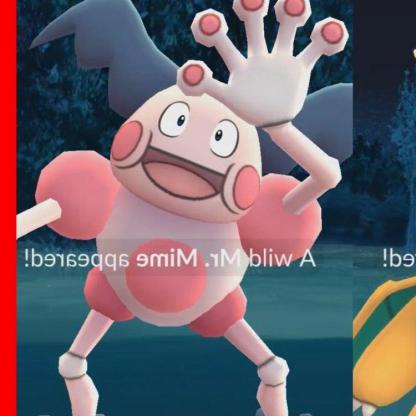Pantimos: (1, 13, 415, 406)
